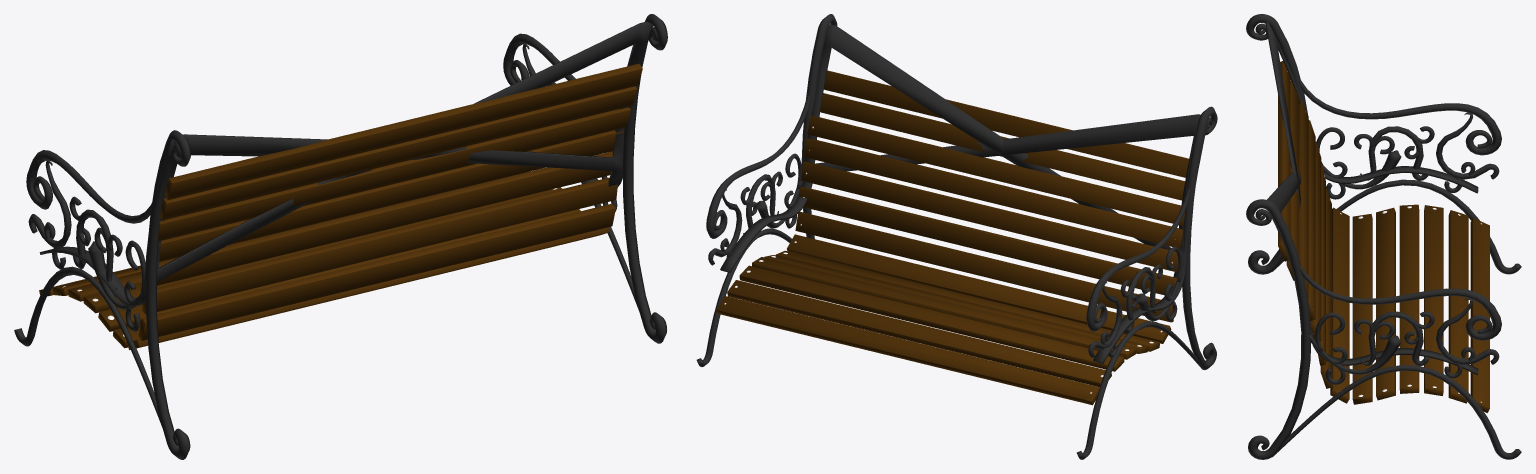
File: wooden_bench.glb
3 renders of one model, left to right at view 1: azimuth 30°, elevation 25°; view 2: azimuth 150°, elevation 25°; view 3: azimuth 270°, elevation 25°, orthographic. The views are drawn at different scales.
Visible parts, largest first — view 1: Bench_Bench.002_0, Bench_Bench.003_0; view 2: Bench_Bench.002_0, Bench_Bench.003_0; view 3: Bench_Bench.002_0, Bench_Bench.003_0.
Boxes of the visible parts, x1,y1,x2,y2 form: Bench_Bench.002_0: (39,63,642,350); Bench_Bench.003_0: (14,14,667,459); Bench_Bench.002_0: (716,70,1188,405); Bench_Bench.003_0: (696,14,1217,459); Bench_Bench.002_0: (1278,61,1489,413); Bench_Bench.003_0: (1246,14,1521,459).
Bounding box in the file's own units: 9794319 × 6231939 × 5976402.
